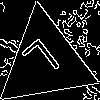L: (20, 36, 68, 90)
